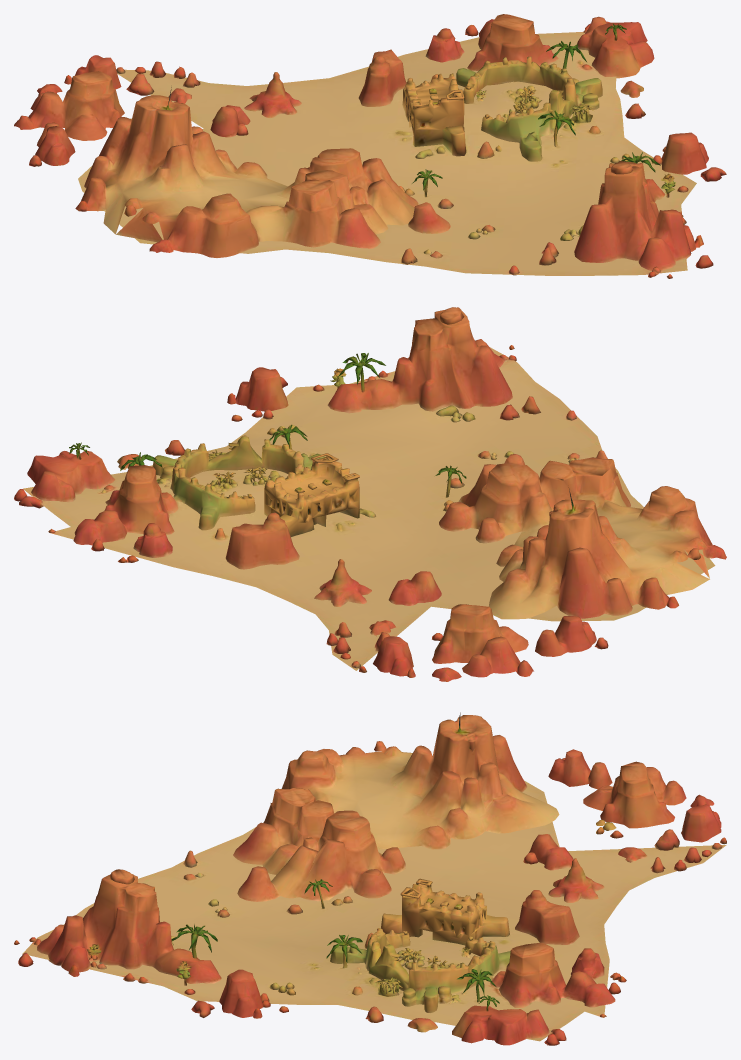
The model's file is isle_04.glb.
3 renders of one model, top to bottom at view 1: azimuth 30°, elevation 25°; view 2: azimuth 150°, elevation 25°; view 3: azimuth 270°, elevation 25°, orthographic. The views are drawn at different scales.
Parts seen in each view (by area): view 1: tripo_node_1b926c84-0320-4edb-a948-67e3abc39106; view 2: tripo_node_1b926c84-0320-4edb-a948-67e3abc39106; view 3: tripo_node_1b926c84-0320-4edb-a948-67e3abc39106.
Boxes of the visible parts, <box> form: tripo_node_1b926c84-0320-4edb-a948-67e3abc39106: <box>14,14,726,278</box>; tripo_node_1b926c84-0320-4edb-a948-67e3abc39106: <box>14,307,726,681</box>; tripo_node_1b926c84-0320-4edb-a948-67e3abc39106: <box>14,712,726,1045</box>.
Bounding box in the file's own units: 104 × 18.28 × 107.
Materials: 1 (1 with a texture image).
